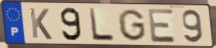9: (181, 8, 205, 44), (60, 7, 83, 42)
E: (147, 7, 178, 44)
G: (117, 8, 148, 42)
K: (28, 7, 53, 41)
L: (87, 7, 116, 42)
